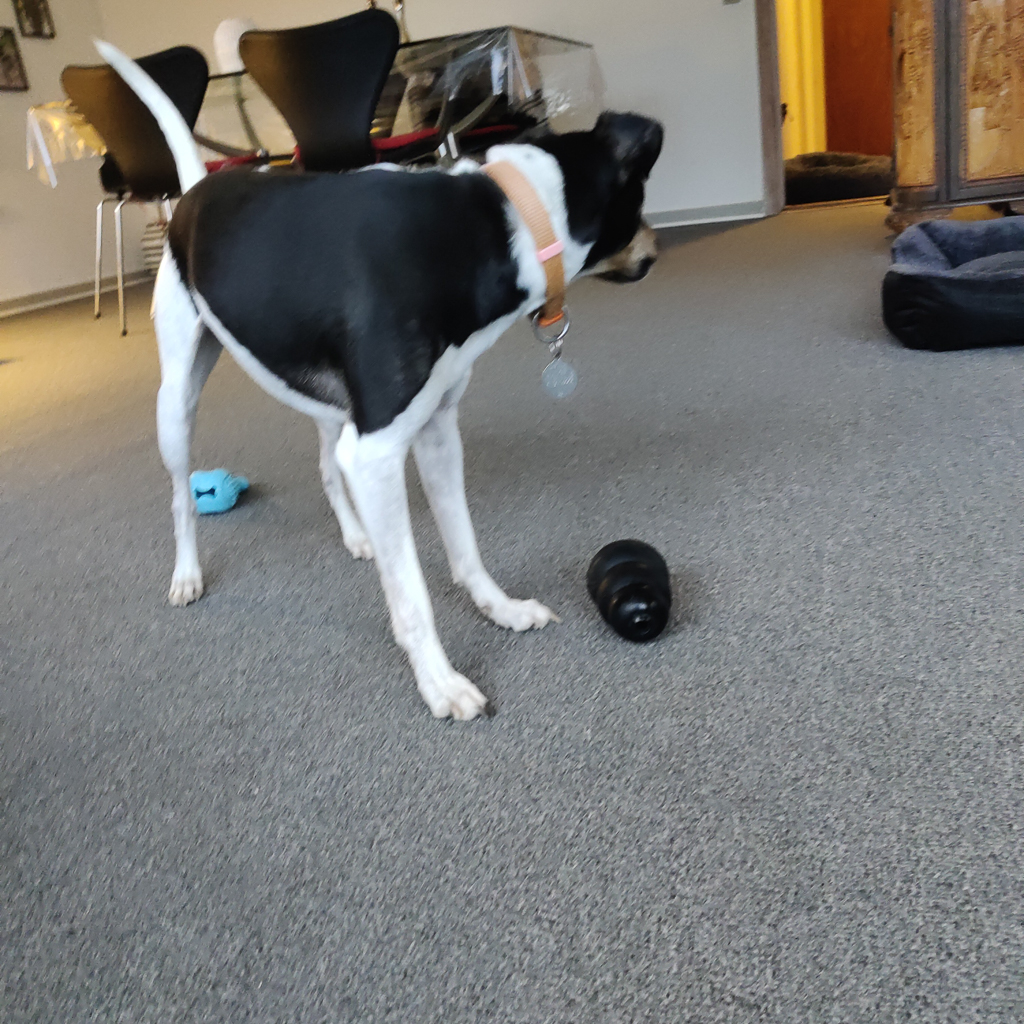Dog: (70, 14, 721, 760)
